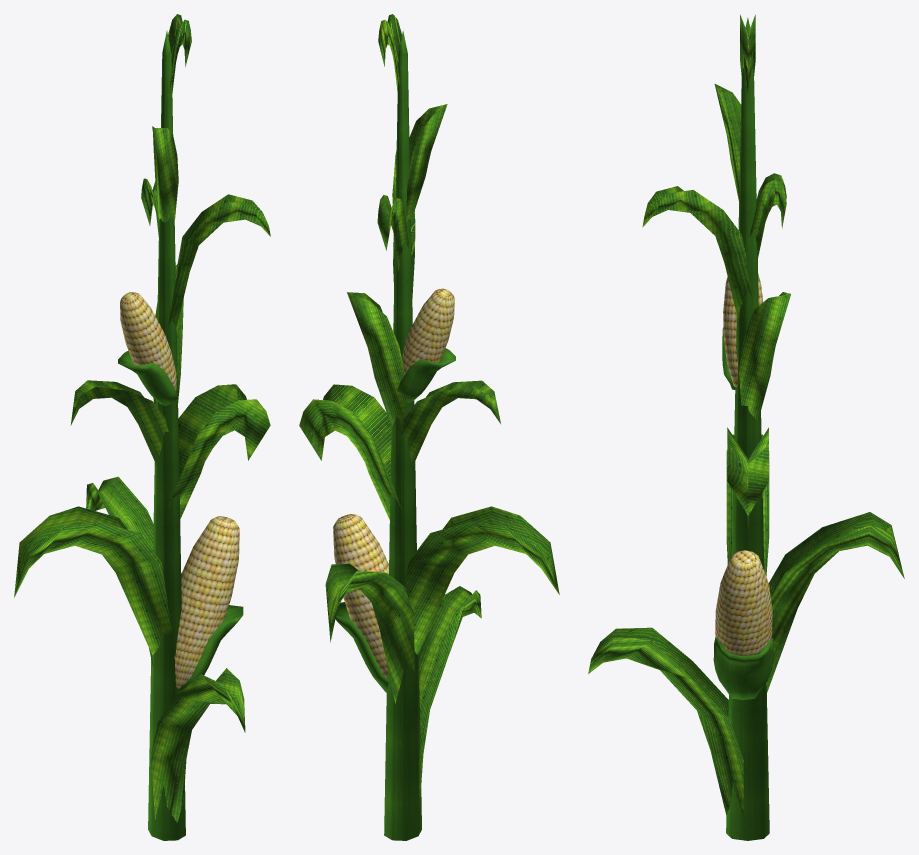
Rendered from Corn001.fbx.
3 views of the same model, side by side, from view 1: azimuth 30°, elevation 25°; view 2: azimuth 150°, elevation 25°; view 3: azimuth 270°, elevation 25° (orthographic).
Visible parts, largest first — view 1: Cylinder.002, Cylinder, Cylinder.001, Cylinder.004; view 2: Cylinder.002, Cylinder, Cylinder.001, Cylinder.004; view 3: Cylinder.002, Cylinder, Cylinder.001, Cylinder.004.
Part boxes in pixels (<box>): Cylinder.002: <box>14,14,270,822</box>; Cylinder: <box>148,31,185,840</box>; Cylinder.001: <box>120,292,239,688</box>; Cylinder.004: <box>118,350,243,692</box>; Cylinder.002: <box>299,14,559,811</box>; Cylinder: <box>384,30,421,840</box>; Cylinder.001: <box>333,288,454,678</box>; Cylinder.004: <box>335,348,455,692</box>; Cylinder.002: <box>588,14,904,819</box>; Cylinder: <box>726,17,769,840</box>; Cylinder.001: <box>715,275,772,655</box>; Cylinder.004: <box>713,328,773,700</box>.
Size of the model in its own units: 676 by 2114 by 734.
3 materials, 3 textured.
